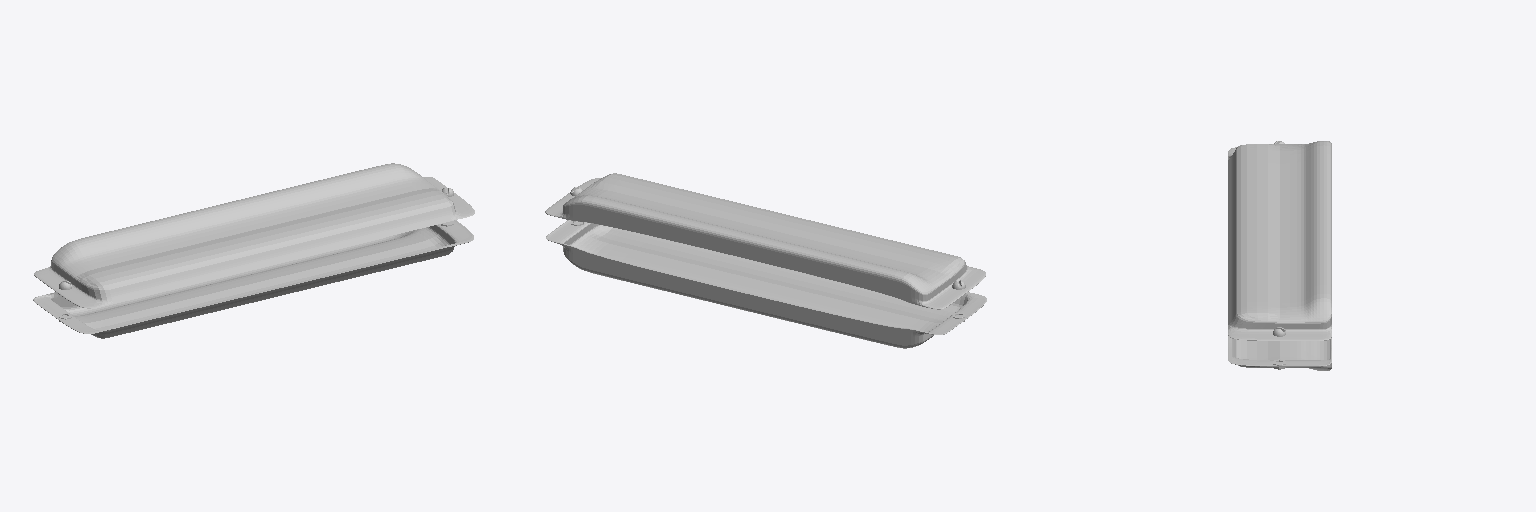
File: harmonica_topBottom.obj
The picture shows the model from 3 angles: view 1: azimuth 30°, elevation 25°; view 2: azimuth 150°, elevation 25°; view 3: azimuth 270°, elevation 25°; orthographic projection.
Parts seen in each view (by area): view 1: pCube2 triangluated pCube6; view 2: pCube2 triangluated pCube6; view 3: pCube2 triangluated pCube6.
Part boxes in pixels (x1,y1,x2,y2): pCube2 triangluated pCube6: (33,163,474,338); pCube2 triangluated pCube6: (545,173,986,348); pCube2 triangluated pCube6: (1228,141,1331,370).
Size of the model in its own units: 38.13 by 6.7 by 8.63.